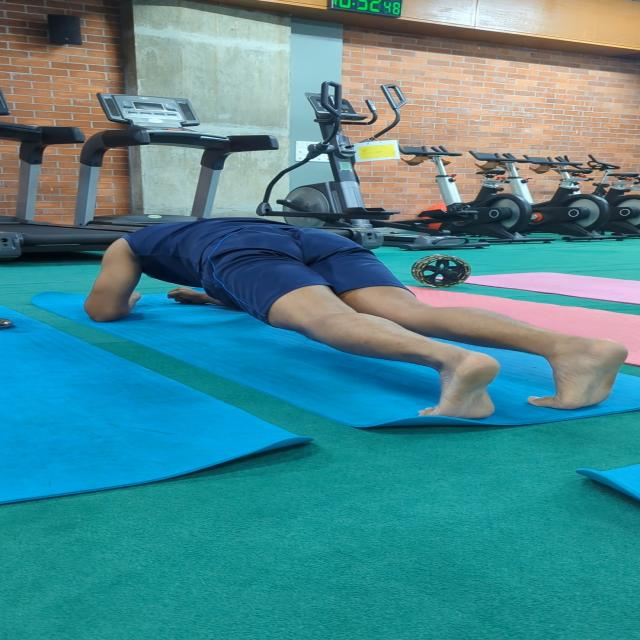Normal_Plunk: (43, 199, 640, 435)
